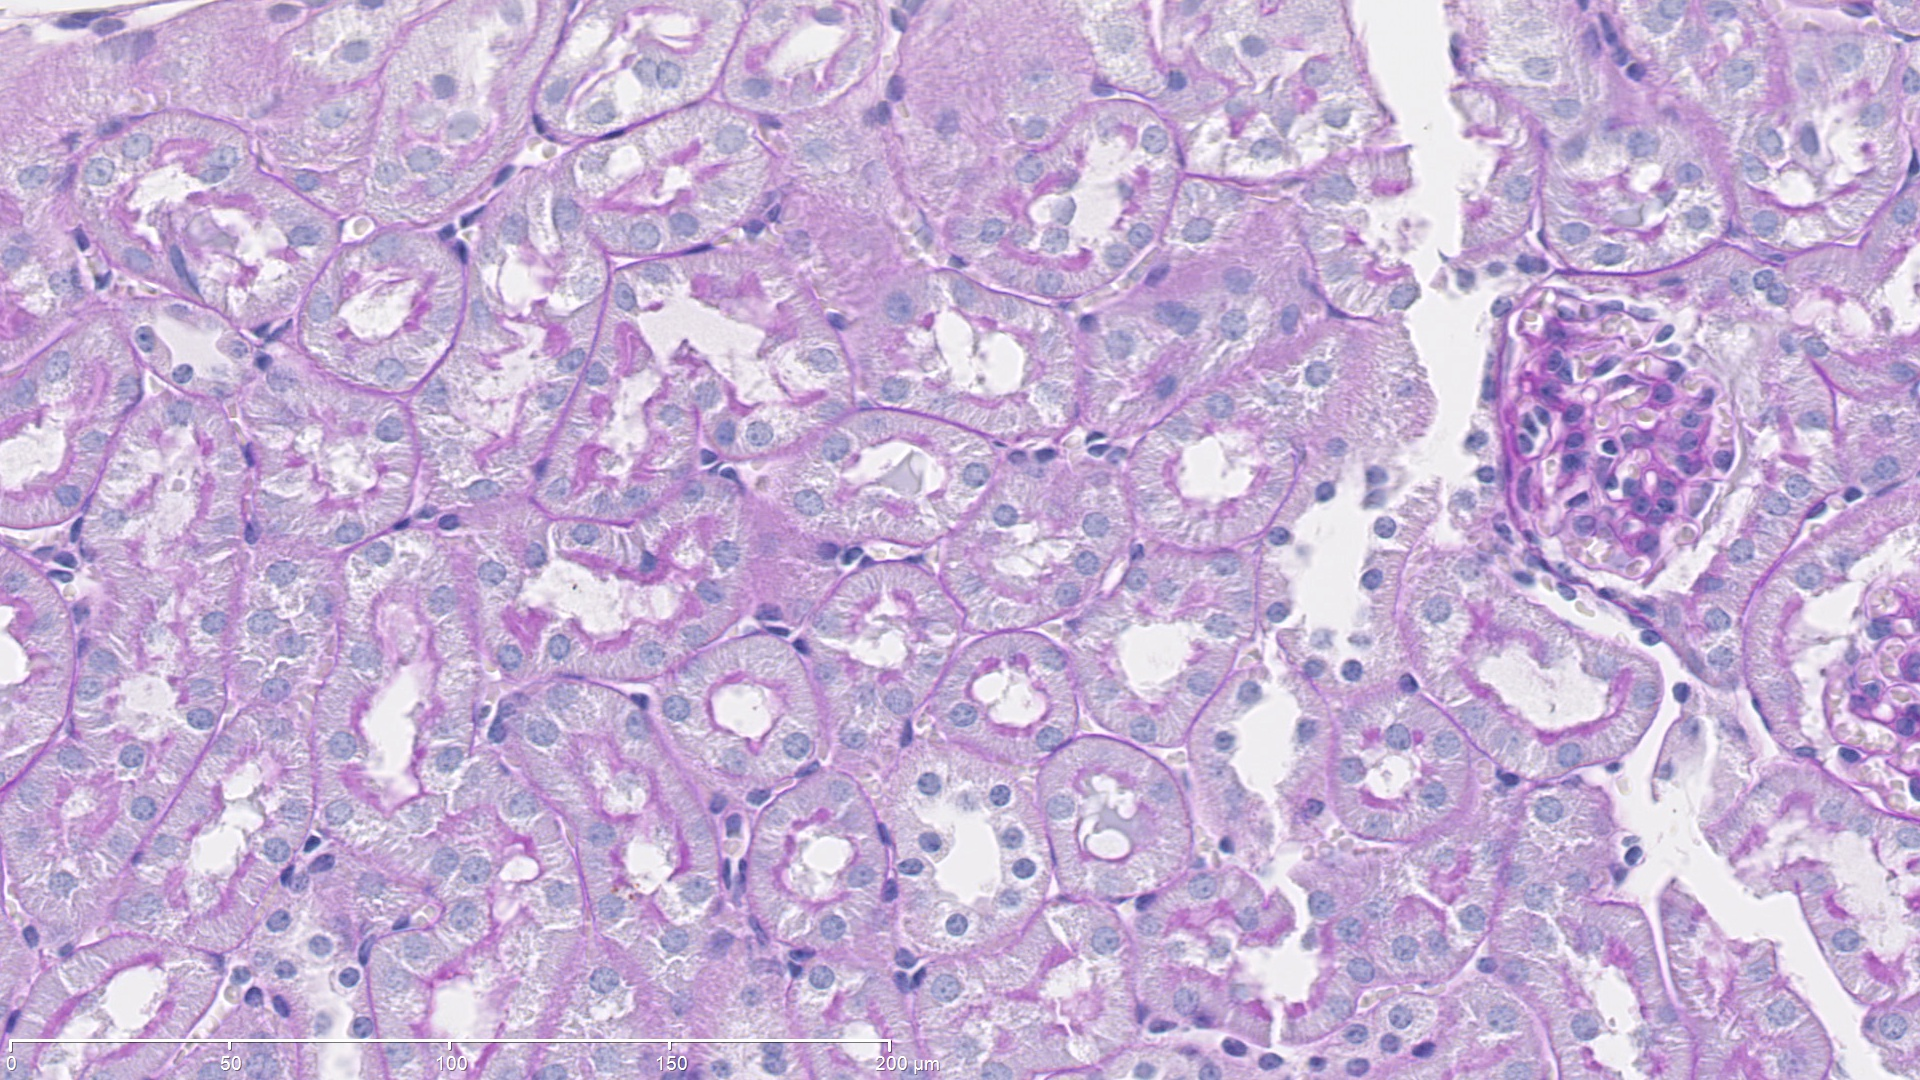Glomeruli: (1478, 276, 1780, 592), (1803, 564, 1917, 800)
